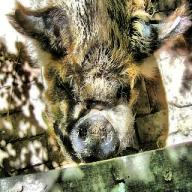boar: (5, 0, 191, 163)
